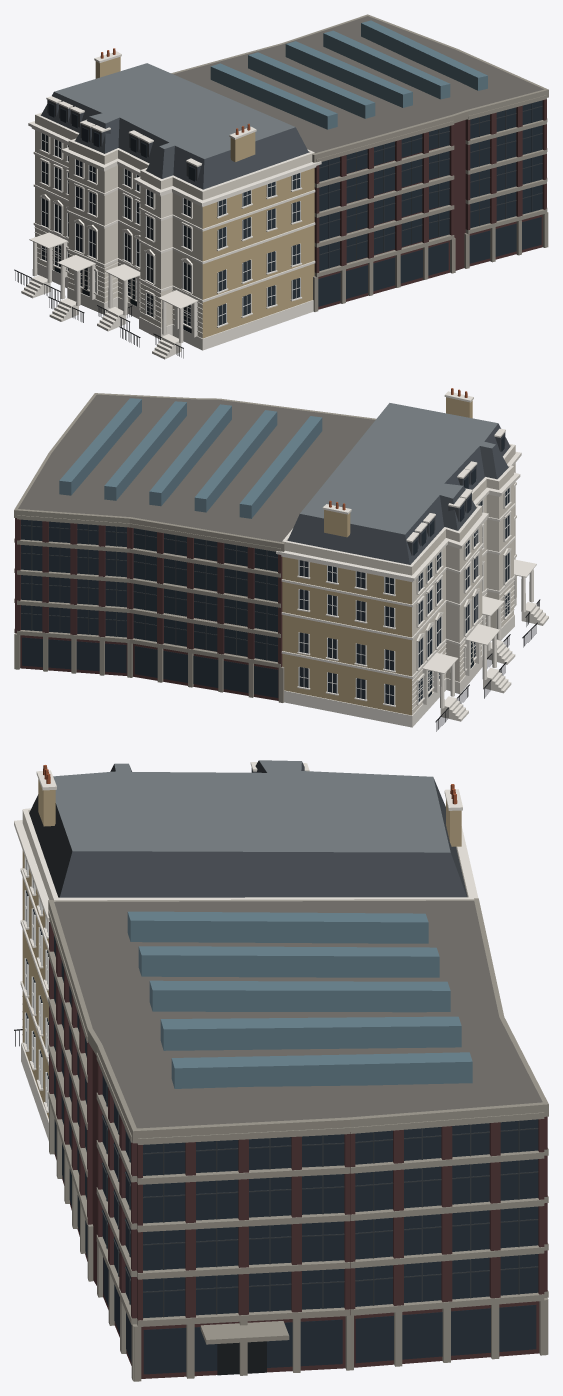
Rendered from rca_stevens_building.glb.
3 views of the same model, one above another, from view 1: azimuth 30°, elevation 25°; view 2: azimuth 150°, elevation 25°; view 3: azimuth 270°, elevation 25° (orthographic). The views are drawn at different scales.
Size of the model in its own units: 49.96 by 23.96 by 31.71.
